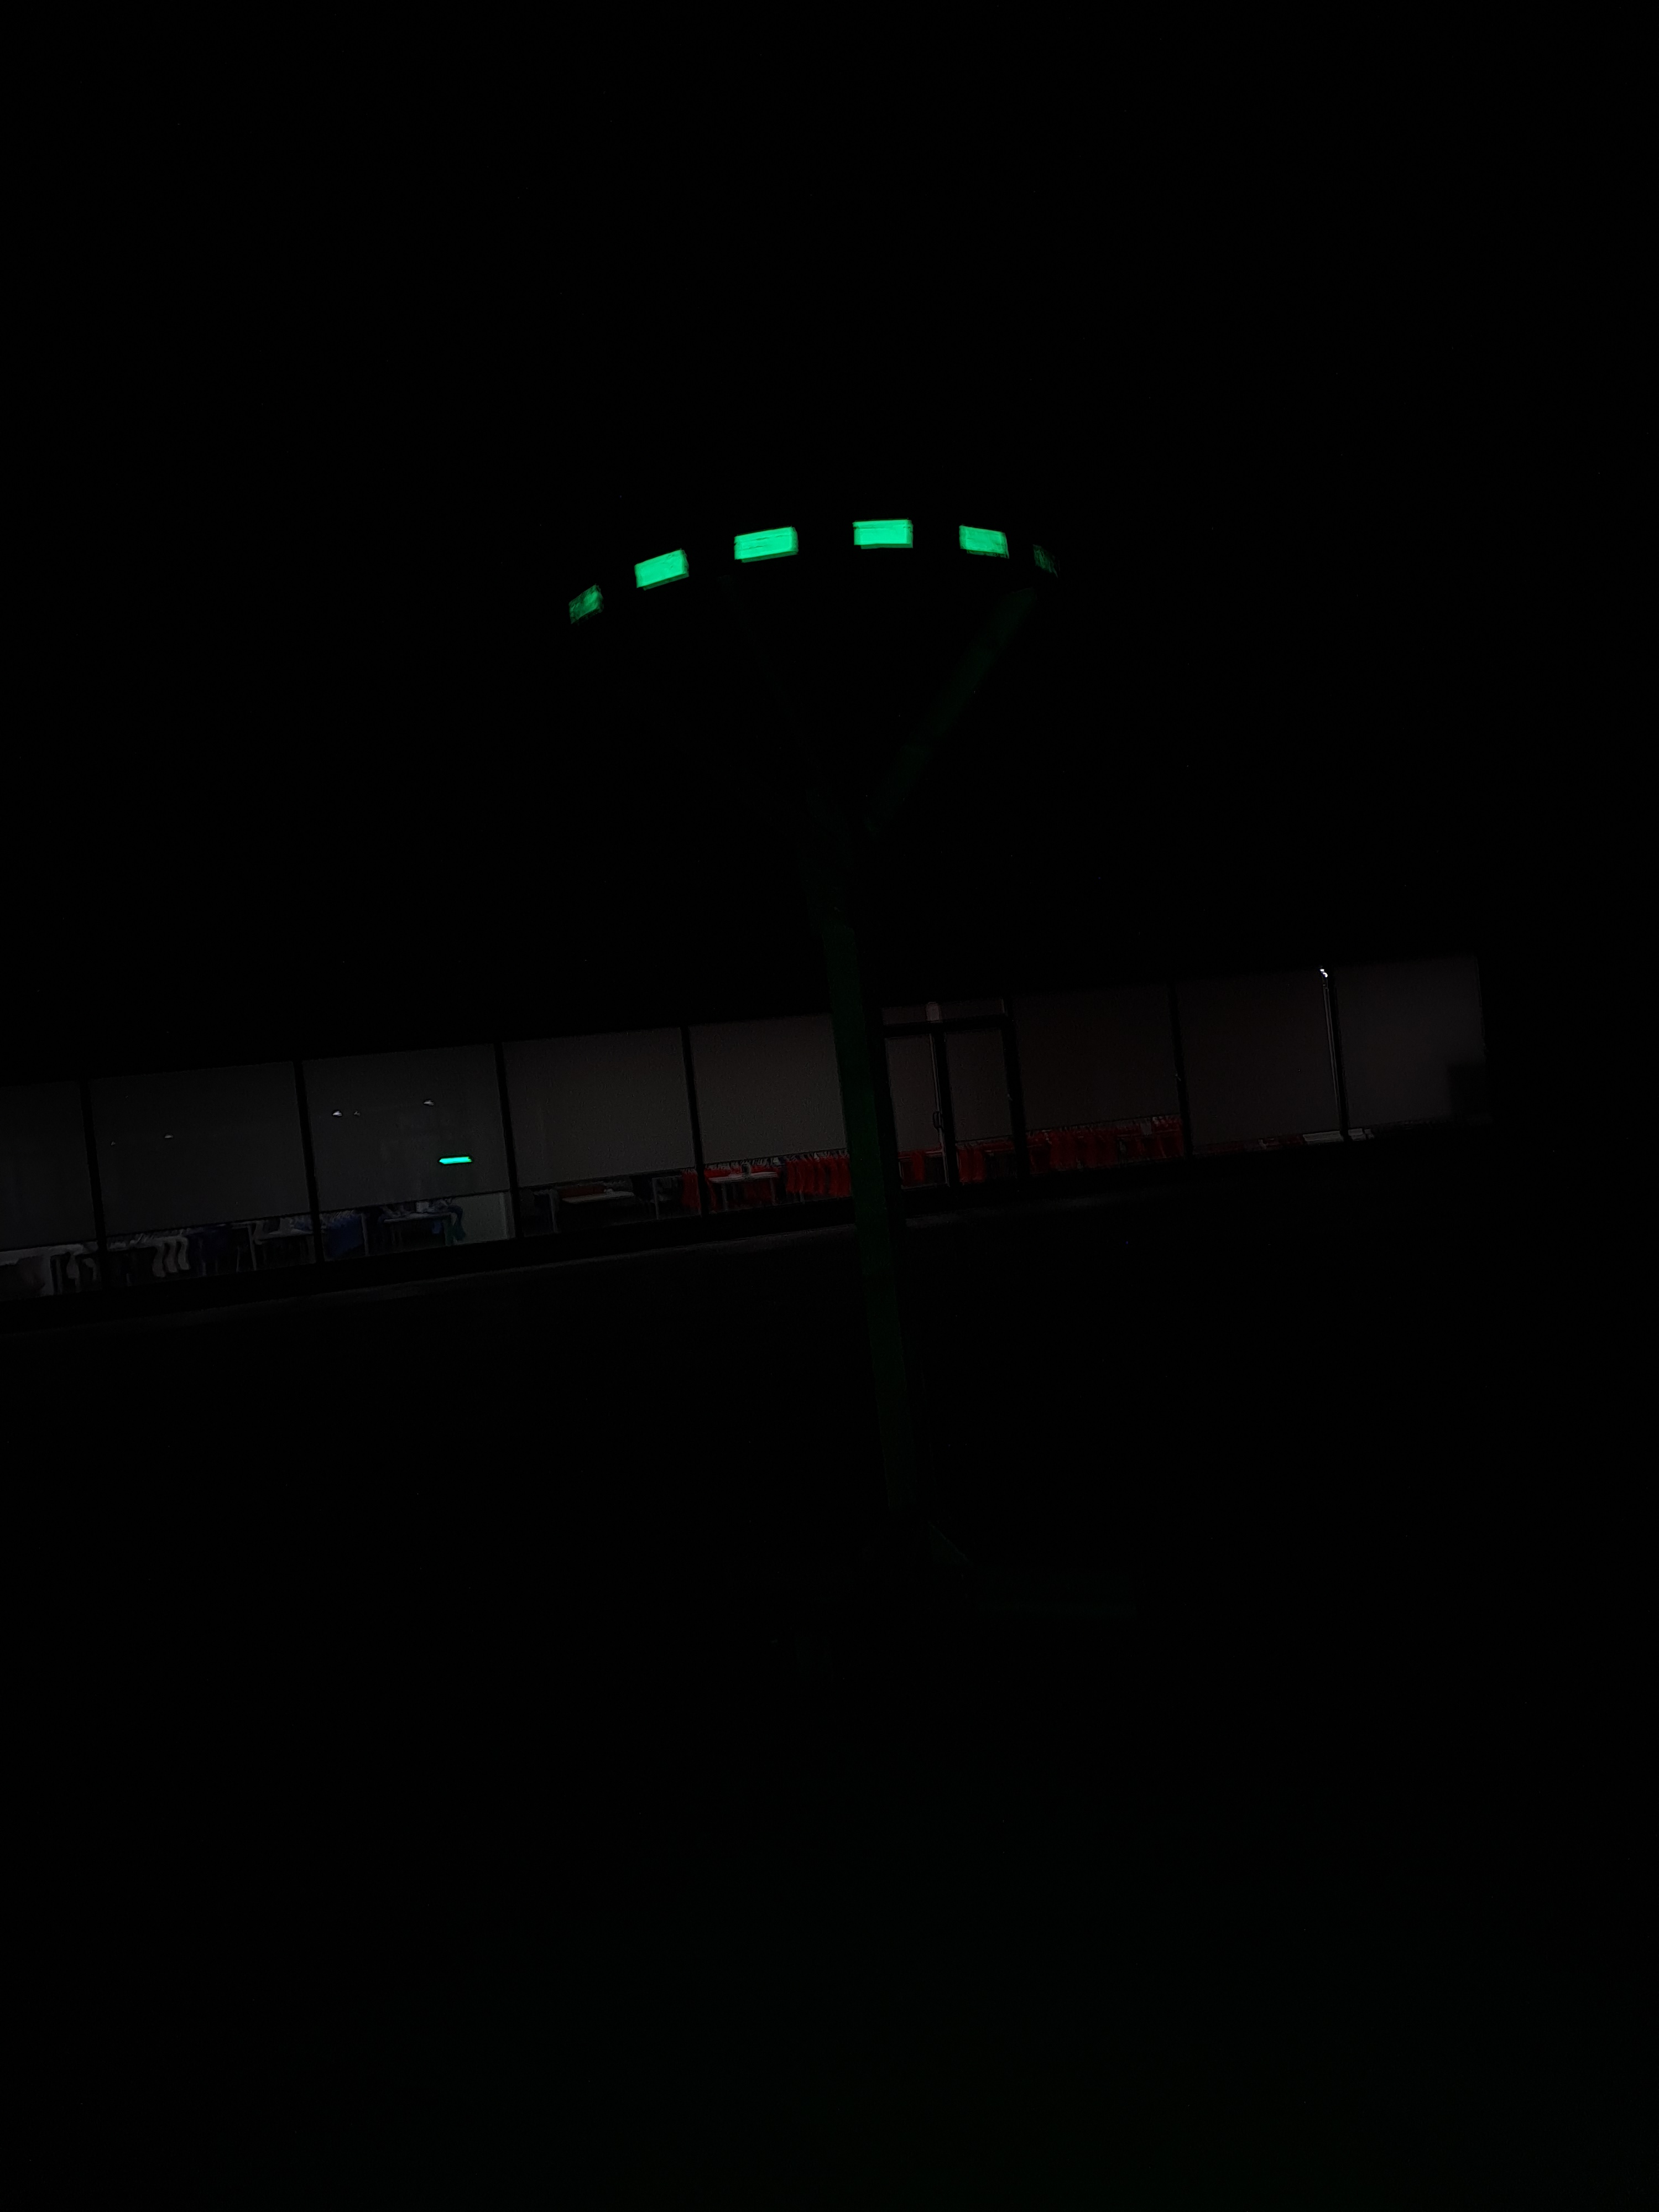hoop: (540, 516, 1018, 629)
